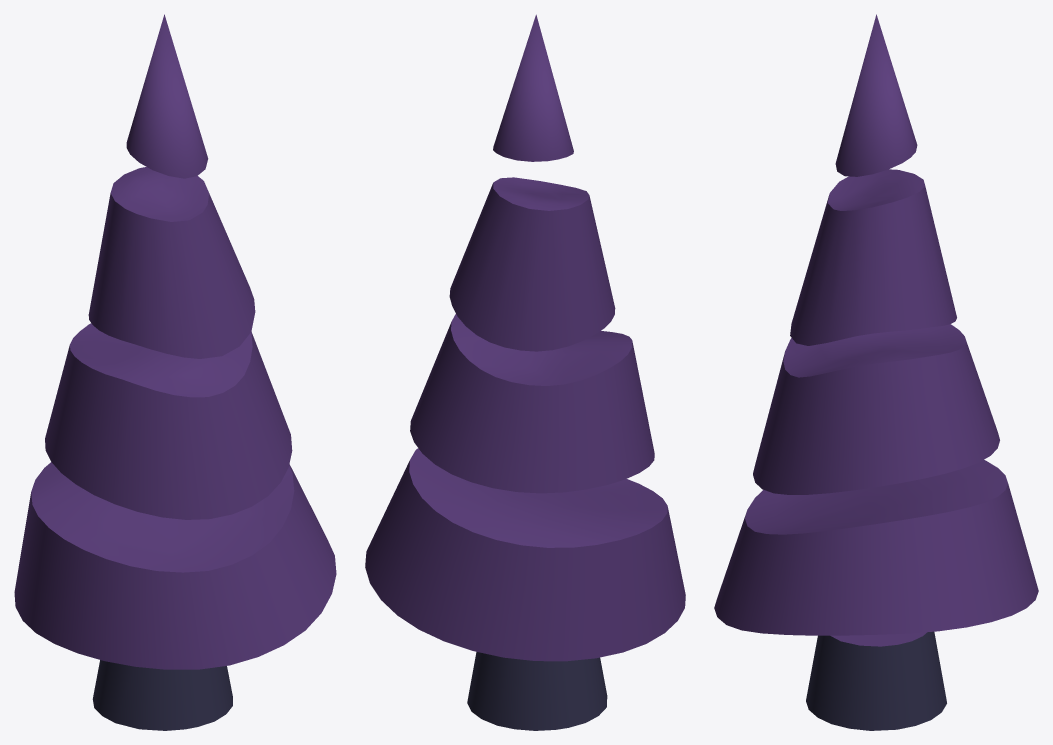
File: cone_tree_1.glb
3 views of the same model, side by side, from view 1: azimuth 30°, elevation 25°; view 2: azimuth 150°, elevation 25°; view 3: azimuth 270°, elevation 25° (orthographic).
Parts seen in each view (by area): view 1: Cone.001; view 2: Cone.001; view 3: Cone.001.
Part boxes in pixels (x1,y1,x2,y2): Cone.001: (14, 14, 336, 730); Cone.001: (365, 14, 685, 730); Cone.001: (714, 14, 1038, 730).
Size of the model in its own units: 8.78 by 20.72 by 8.86.
